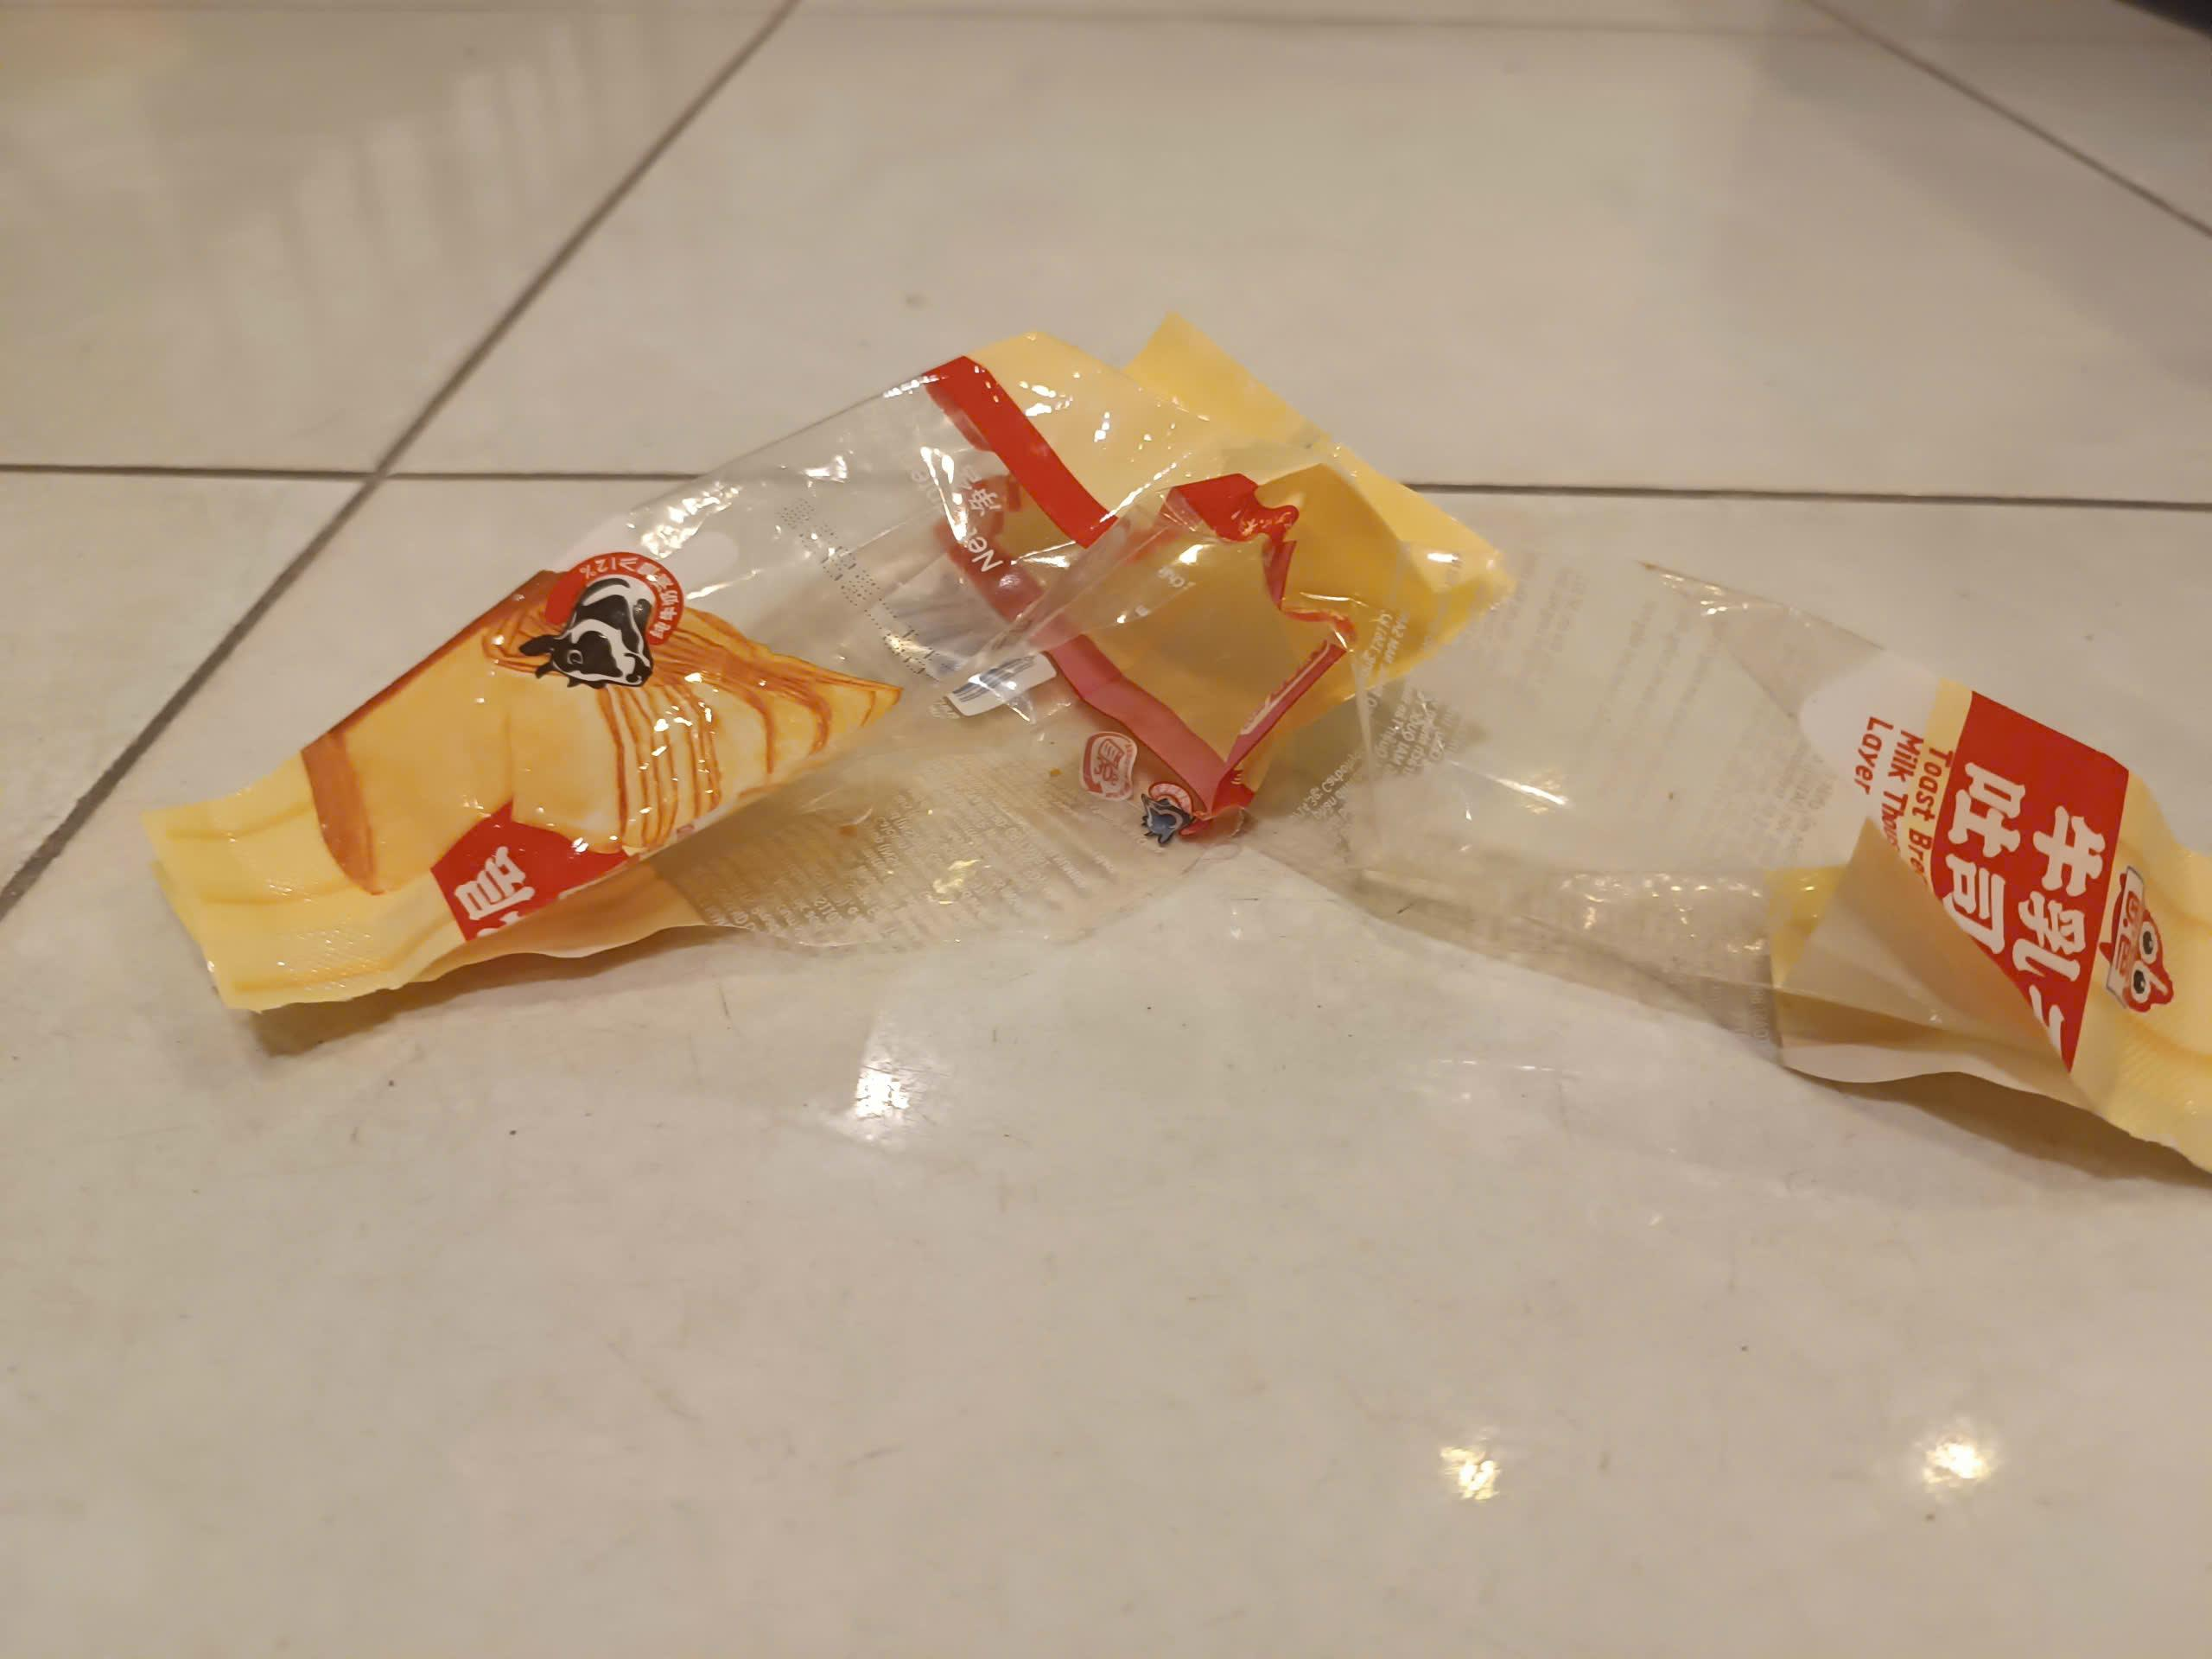Vo co: (146, 312, 2212, 1155)
